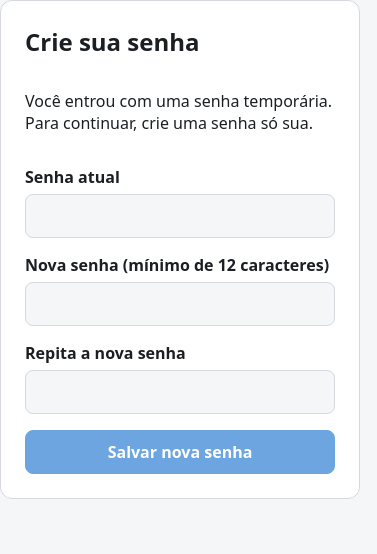
Scenario: trocar senha › confirmação diferente: avisa e não envia
In the password field labelled "Senha atual": (180, 216) [25,194,335,238], type "temporaria-123"
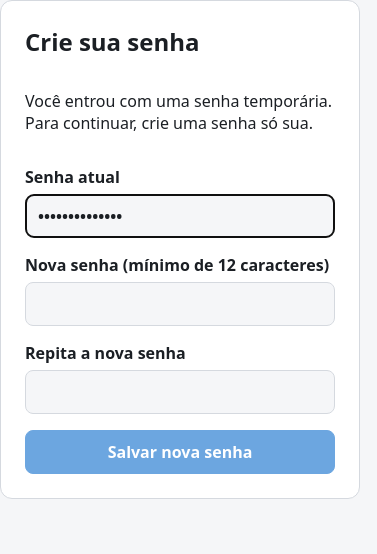
In the password field labelled "Nova senha (mínimo de 12 caracteres)": (180, 304) [25,282,335,326], type "minha-senha-nova-1"
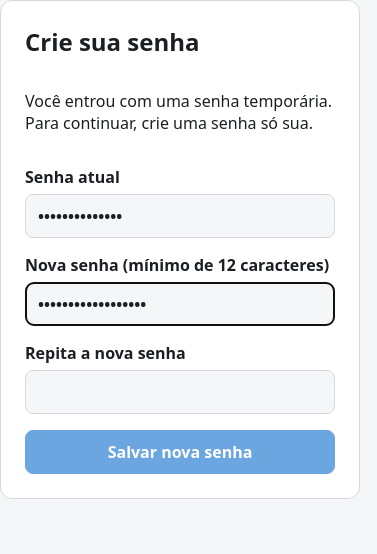
In the password field labelled "Repita a nova senha": (180, 392) [25,370,335,414], type "minha-senha-nova-2"
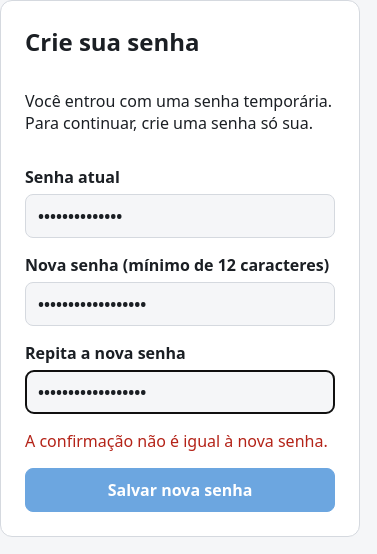
Expected: the button "Salvar nova senha" is disabled, [25,468,335,512]
Now the message shows "A confirmação não é igual", box [25,430,328,452]
